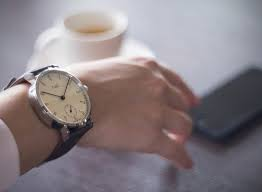clock: (37, 70, 90, 124)
